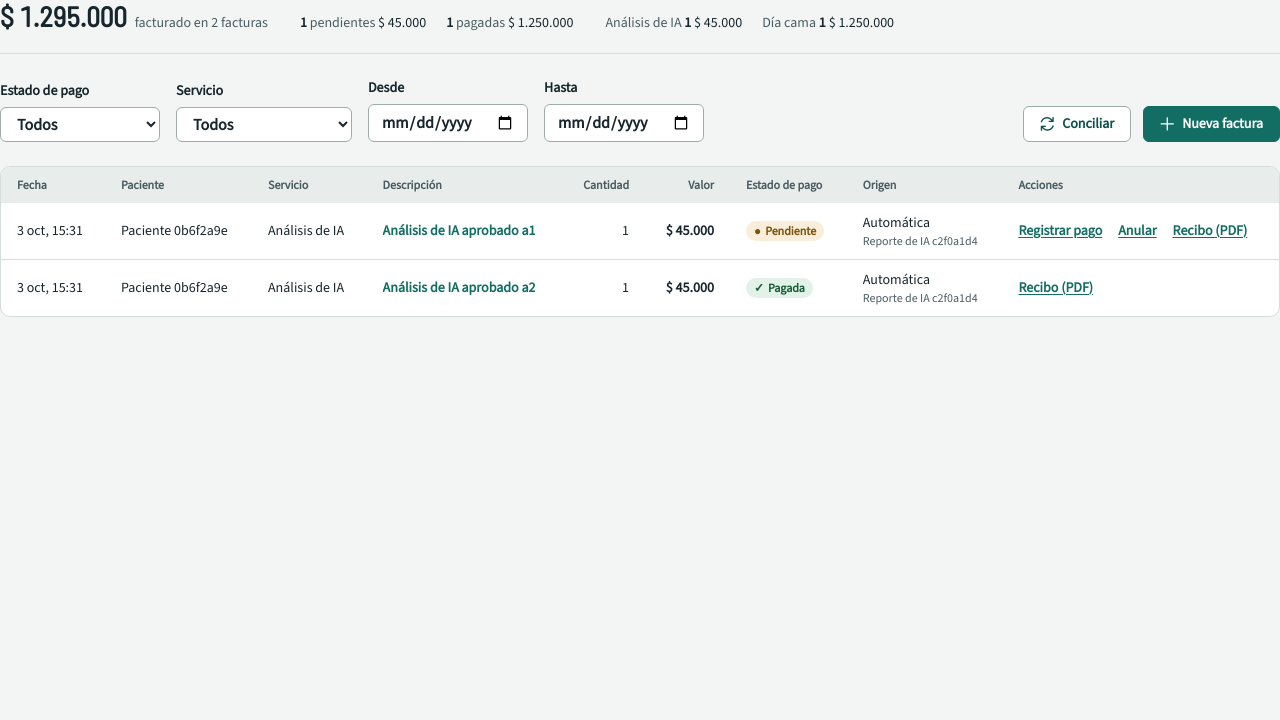
billing screen › opens the history of an invoice
Step 1. Click the button with aria-label "Ver historial: Análisis de IA aprobado a1" → (459, 231), box [383,221,535,241]
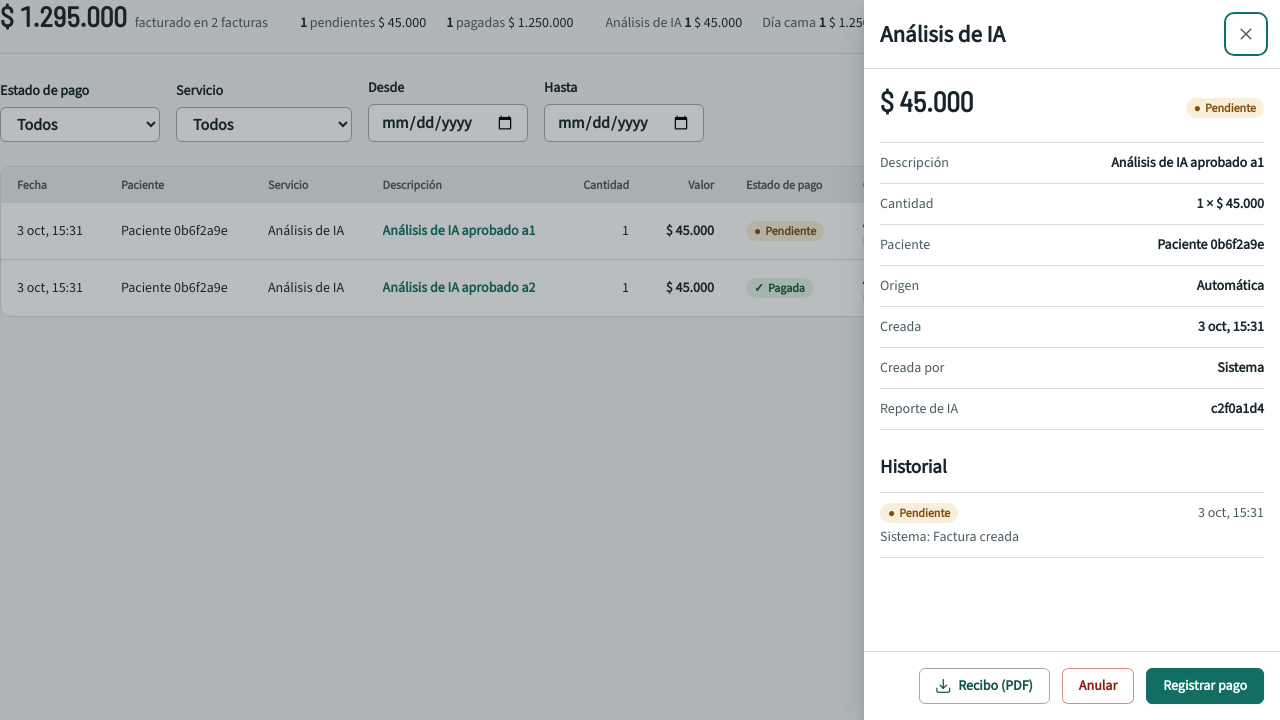
Now the heading "Historial" is shown, box [880,454,947,479]
Now the text "Sistema: Factura creada" is shown, box [880,527,1019,546]
